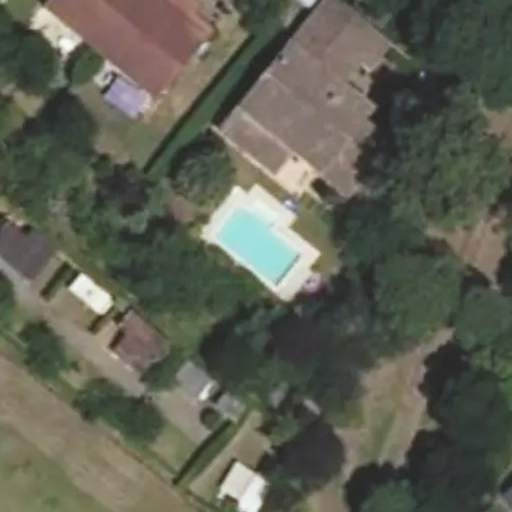pool: (210, 232, 310, 242)
